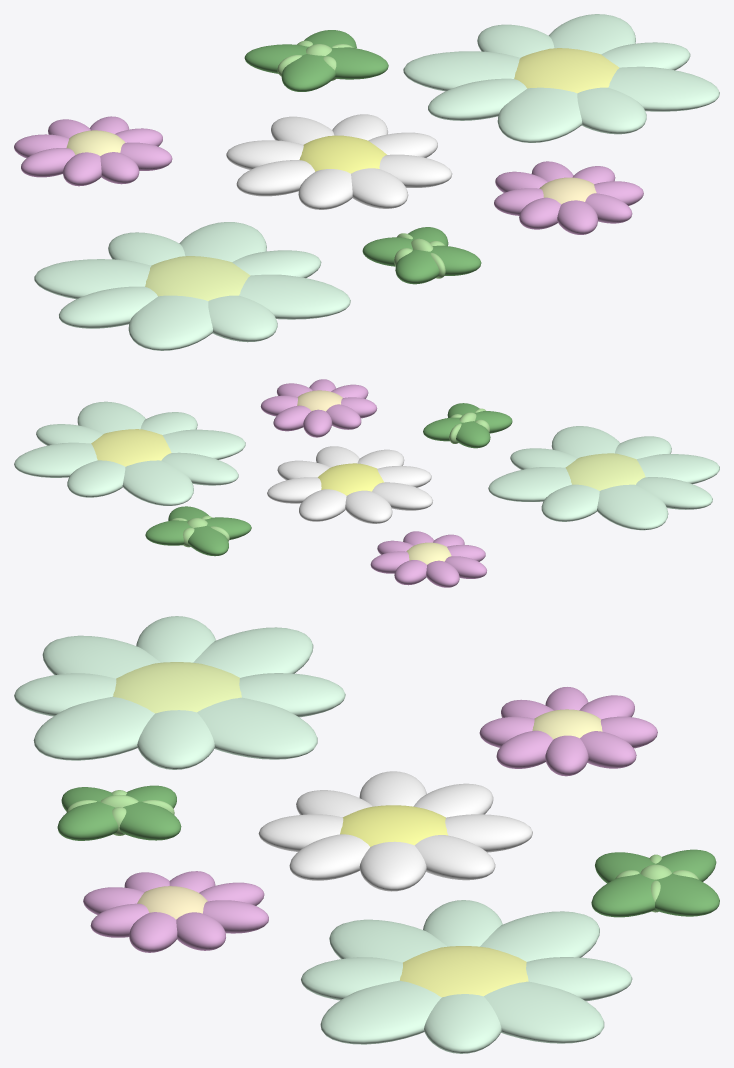
The model's file is flowers.fbx.
3 views of the same model, one above another, from view 1: azimuth 30°, elevation 25°; view 2: azimuth 150°, elevation 25°; view 3: azimuth 270°, elevation 25° (orthographic). The views are drawn at different scales.
Visible parts, largest first — view 1: Sphere.001; view 2: Sphere.001; view 3: Sphere.001.
Boxes of the visible parts, left/top/right/bottom form: Sphere.001: left=14, top=14, right=719, bottom=350; Sphere.001: left=14, top=379, right=719, bottom=587; Sphere.001: left=14, top=616, right=719, bottom=1053.
Bounding box in the file's own units: 304 × 11.86 × 209.
